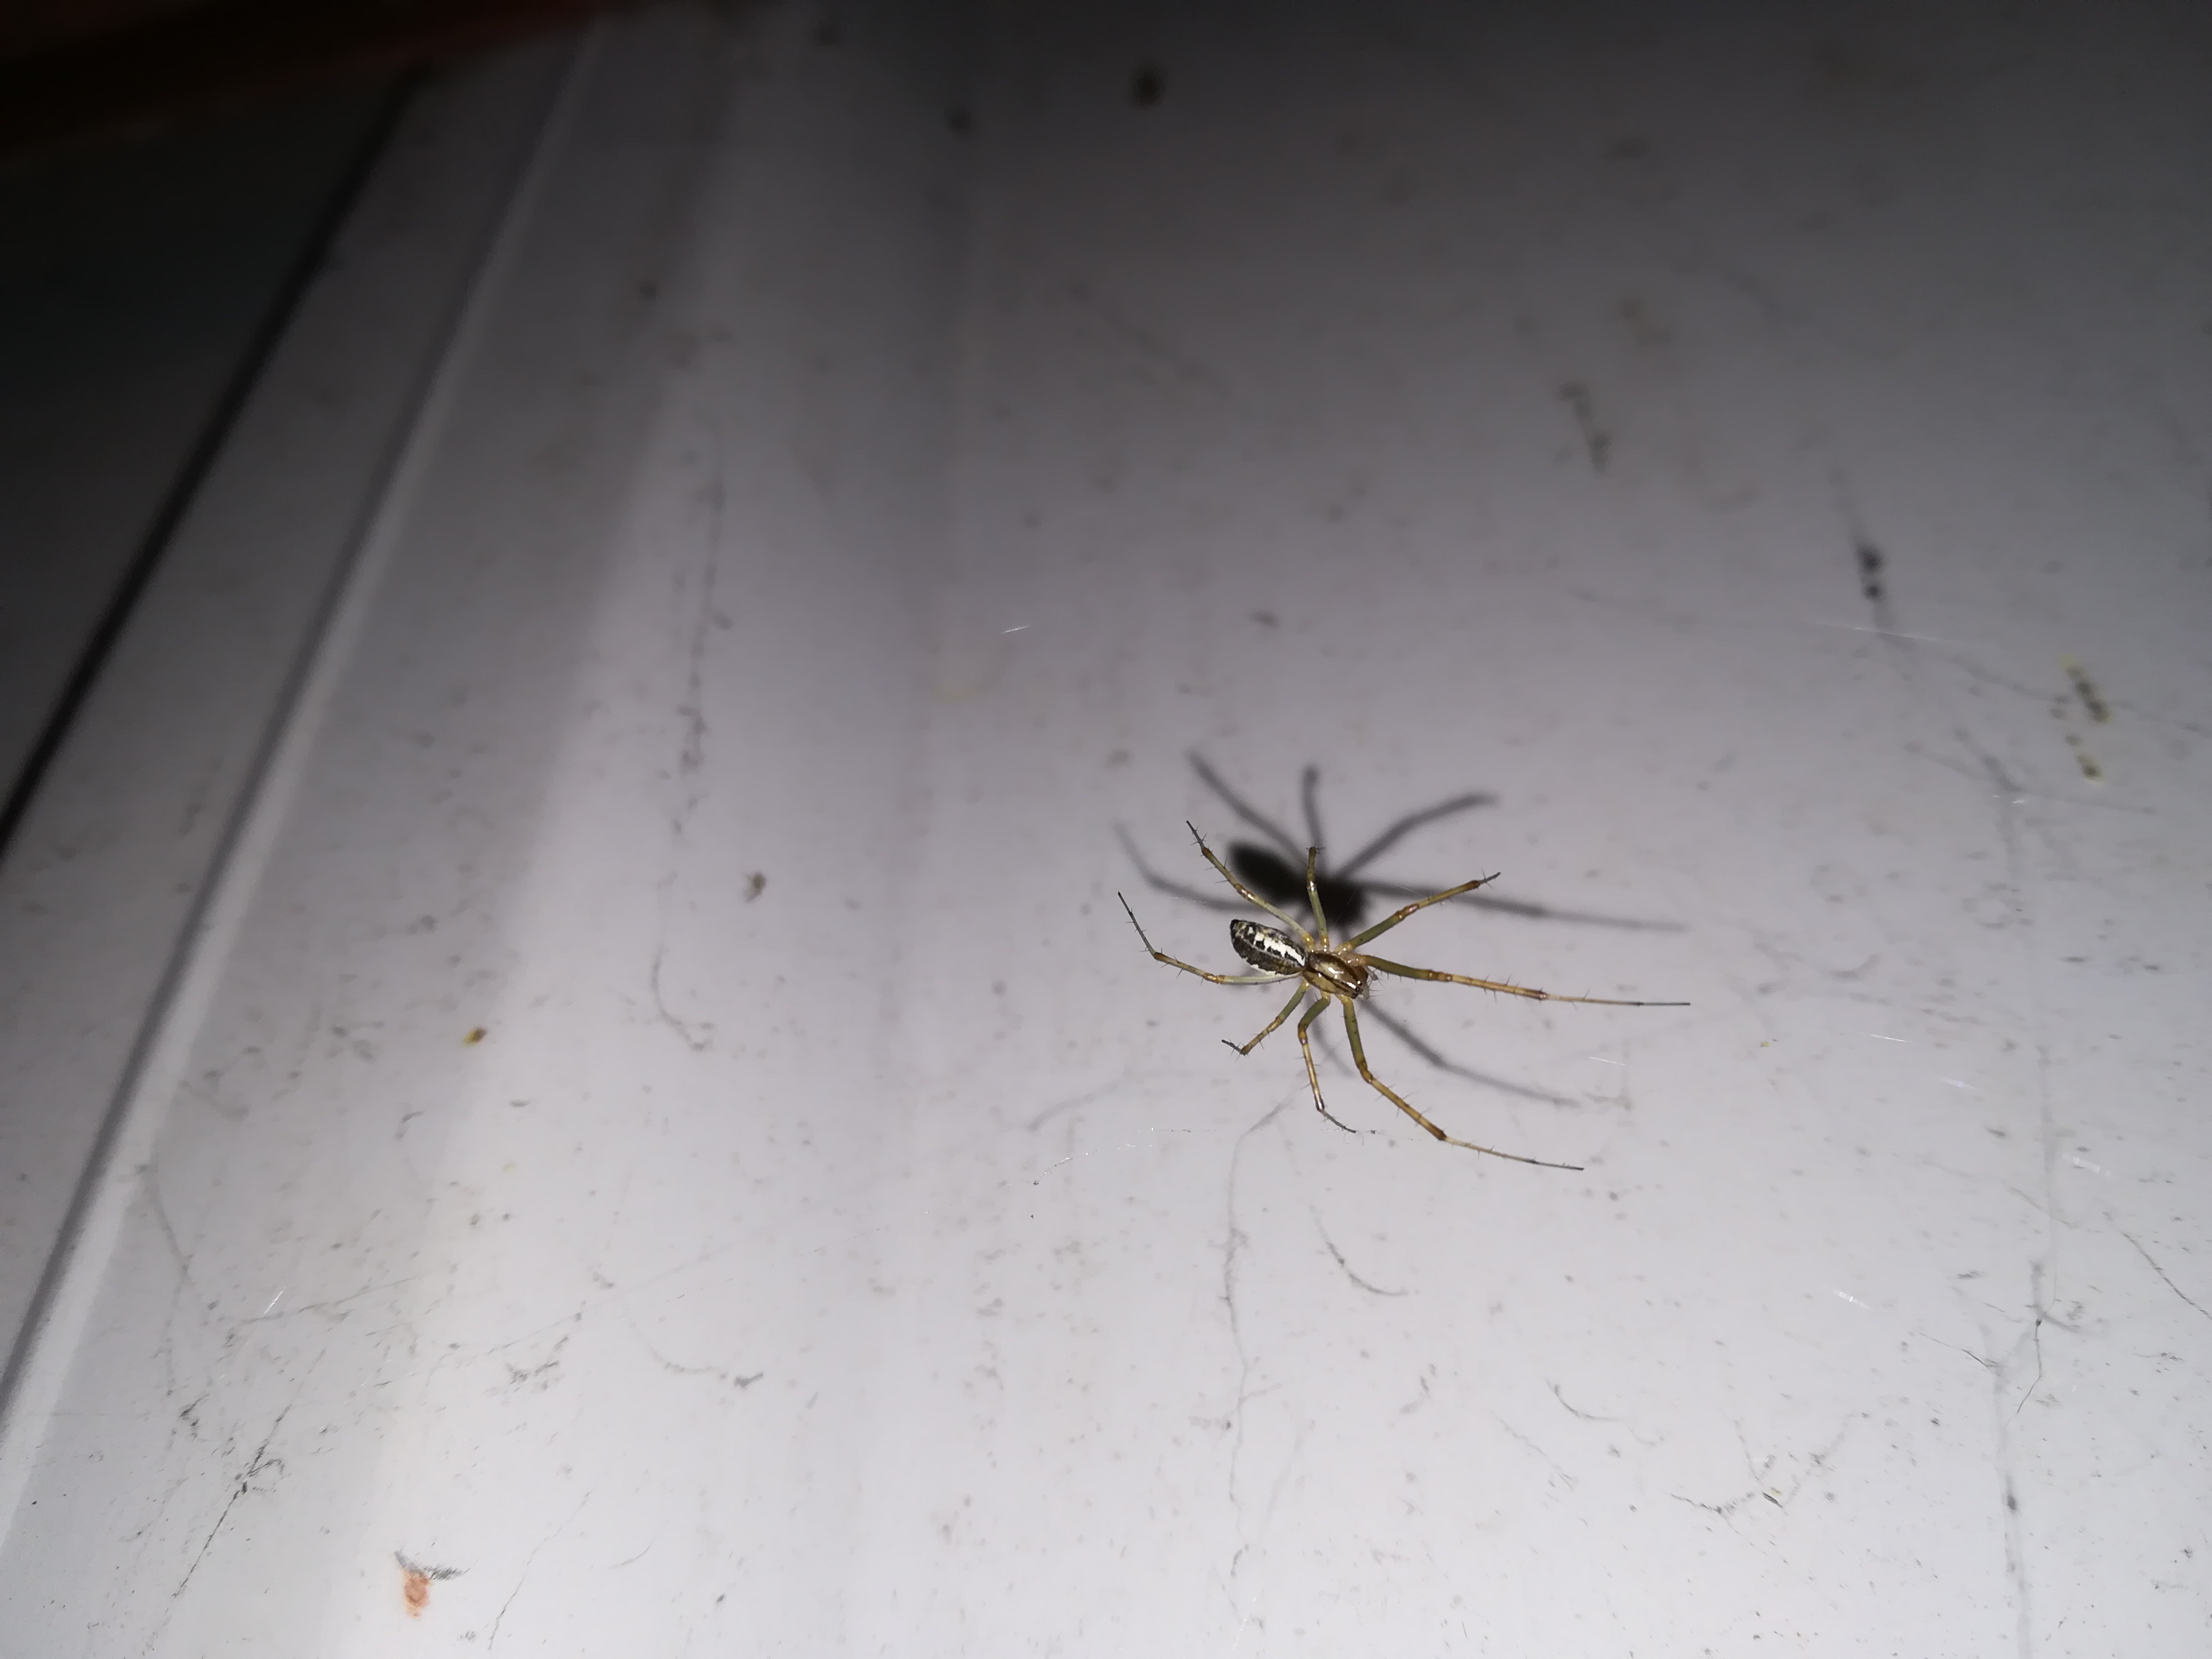spider: (1066, 769, 1721, 1216)
